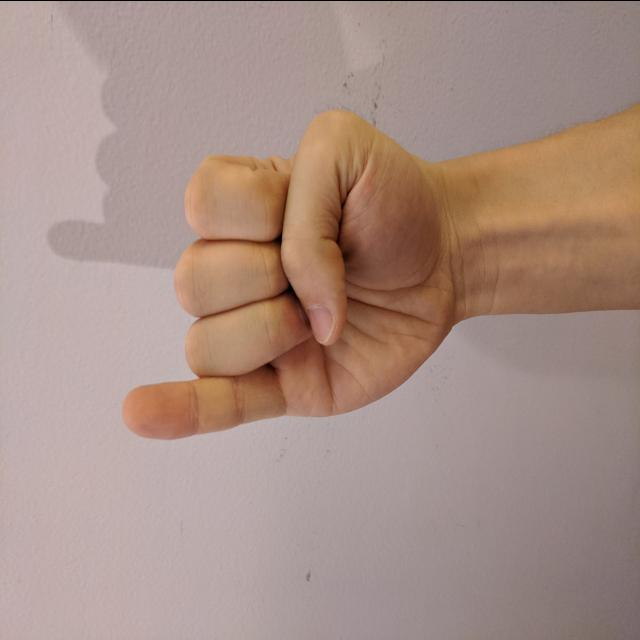I: (115, 98, 468, 448)
